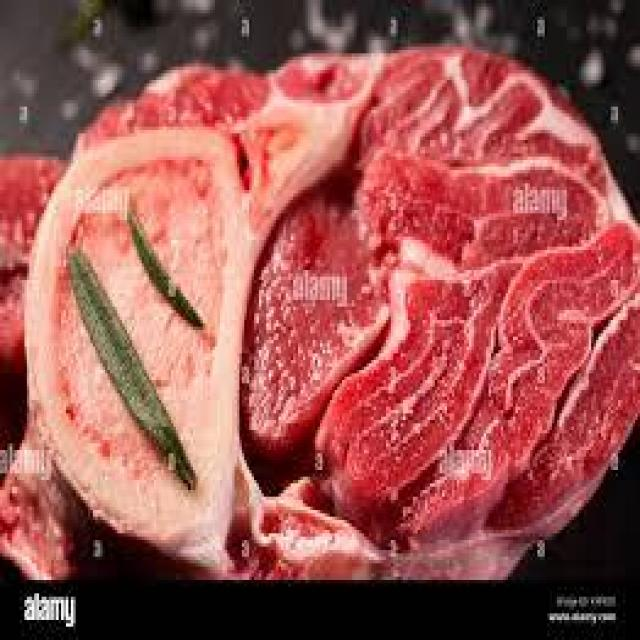beef: (354, 217, 637, 437)
